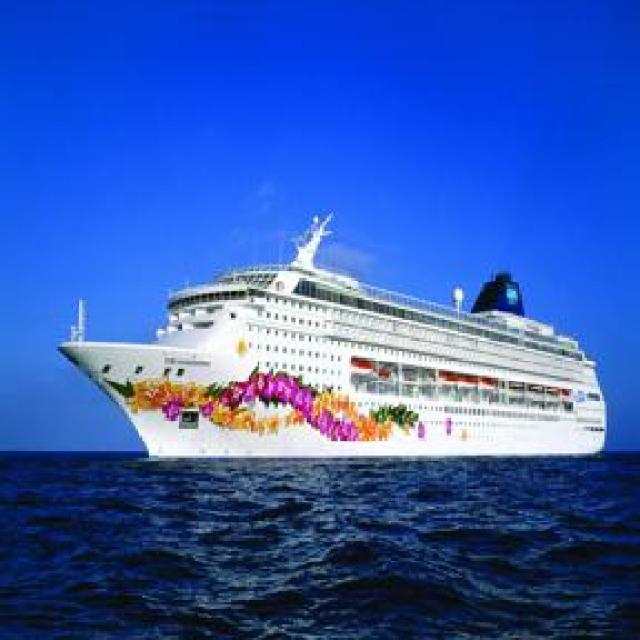passenger ship: (59, 201, 611, 462)
